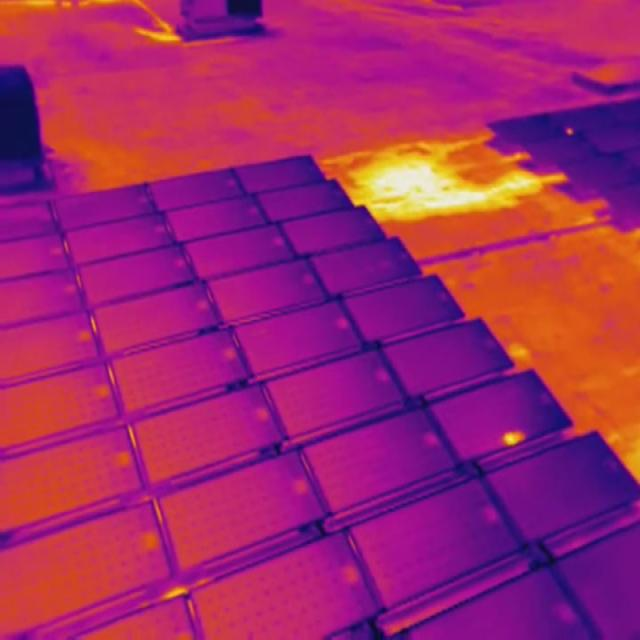Orange-Spots: (501, 427, 525, 447), (566, 128, 574, 134)
